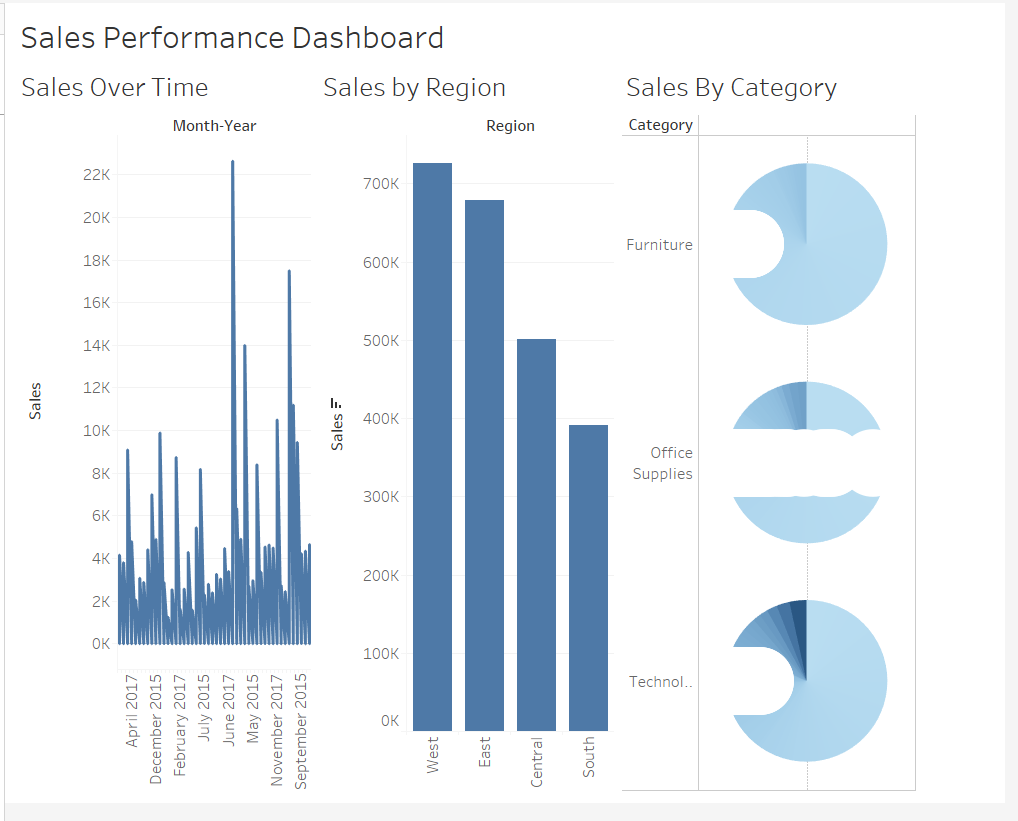

This screenshot's page, from the dashboard's own definition file:
{"tool":"tableau","page":{"name":"Dashboard 1","canvas":[1000,800],"ordinal":0},"visuals":[{"type":"title","box":[8,8,984,50]},{"type":"worksheet","title":"Sheet 1","mark":"Line","rows":["Sales"],"cols":["Calculation_1014998778898231296"],"box":[8,58,302,734]},{"type":"worksheet","title":"Sheet 2","mark":"Automatic","rows":["Sales"],"cols":["Region"],"box":[310,58,303,734]},{"type":"worksheet","title":"Sheet 3","mark":"Pie","rows":["Category"],"cols":["Calculation_1014998778907037697","Calculation_1014998778907037697"],"box":[613,58,303,734]}]}

Visuals, with their boxes in screenshot pixels (x1, y1, x2, y2), scaled from the page's 1000x800 canvas onto the 1018x821 screenshot:
title: detection(8, 8, 1010, 60)
"Sheet 1" worksheet (Line marks): detection(8, 60, 316, 813)
"Sheet 2" worksheet: detection(316, 60, 624, 813)
"Sheet 3" worksheet (Pie marks): detection(624, 60, 932, 813)
